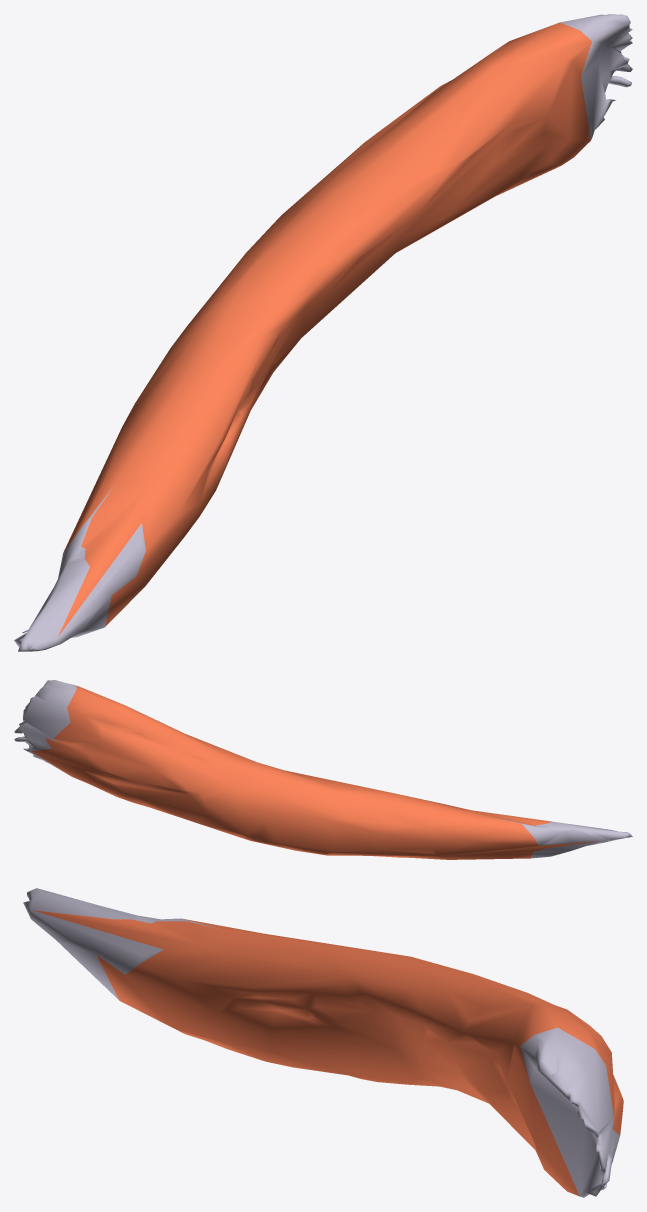
The model's file is Superior_gemellus_muscle.r_Generated_Mesh_From_X3D.178.glb.
The picture shows the model from 3 angles, top to bottom: view 1: azimuth 30°, elevation 25°; view 2: azimuth 150°, elevation 25°; view 3: azimuth 270°, elevation 25°; orthographic projection. The views are drawn at different scales.
Visible parts, largest first — view 1: Superior_gemellus_muscle.r_Generated_Mesh_From_X3D.178; view 2: Superior_gemellus_muscle.r_Generated_Mesh_From_X3D.178; view 3: Superior_gemellus_muscle.r_Generated_Mesh_From_X3D.178.
Part boxes in pixels (x1=…): Superior_gemellus_muscle.r_Generated_Mesh_From_X3D.178: x1=14, y1=14, x2=632, y2=651; Superior_gemellus_muscle.r_Generated_Mesh_From_X3D.178: x1=14, y1=680, x2=632, y2=859; Superior_gemellus_muscle.r_Generated_Mesh_From_X3D.178: x1=23, y1=888, x2=623, y2=1197.
Bounding box in the file's own units: 0.0837 × 0.0272 × 0.0458.
